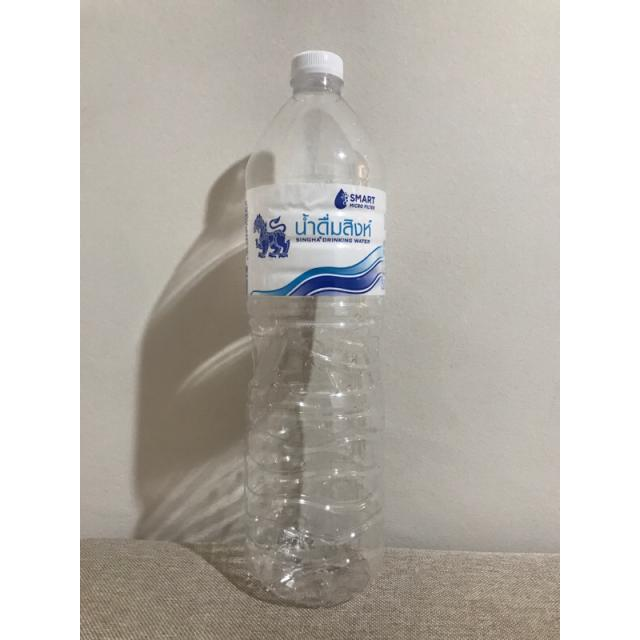bottle: (245, 51, 386, 610)
